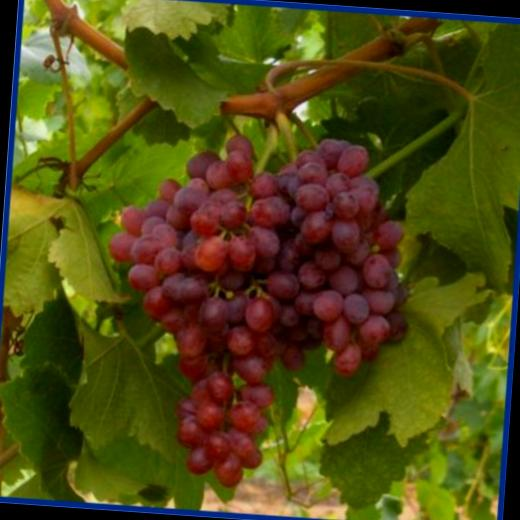Orange: (92, 123, 420, 499)
